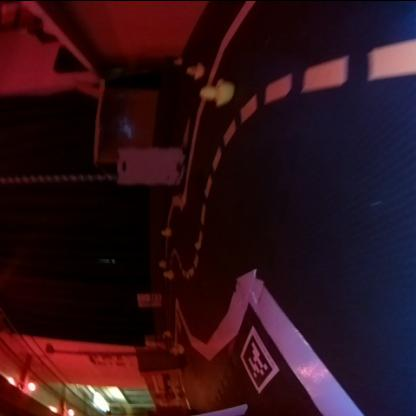Duckie: (200, 78, 234, 104), (186, 61, 204, 78), (162, 269, 174, 277), (161, 228, 170, 234)
QR code: (238, 326, 278, 390)
